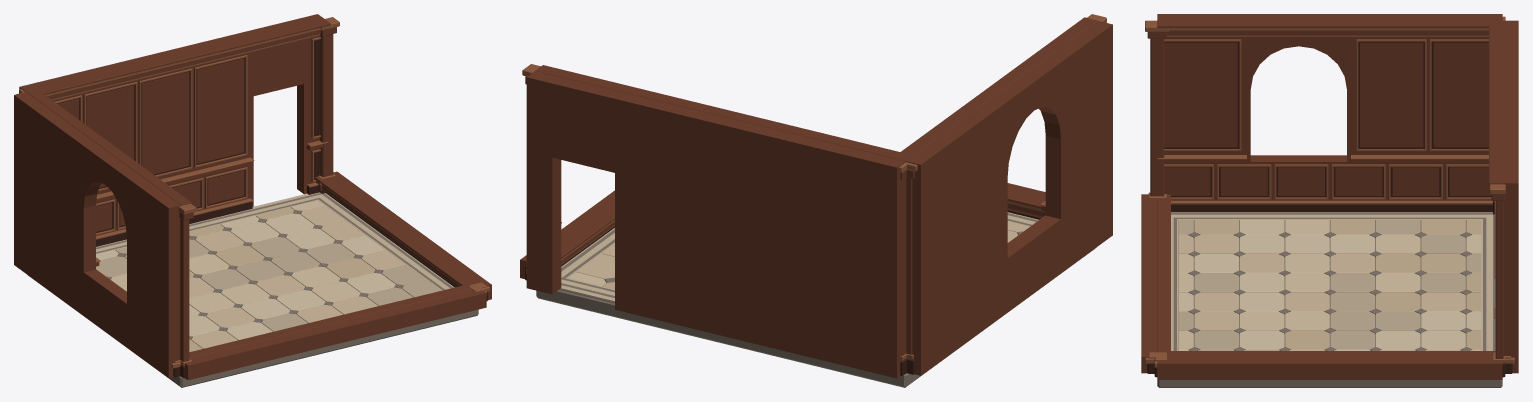
Rendered from r14_architecture.glb.
3 renders of one model, left to right at view 1: azimuth 30°, elevation 25°; view 2: azimuth 150°, elevation 25°; view 3: azimuth 270°, elevation 25°, orthographic. The views are drawn at different scales.
Visible parts, largest first — view 1: R14_left_Wall_Solid_00, R14_Floor, R14_rear_Wall_Solid_00, R14_front_Cutedge_Solid_00, R14_rear_Wall_UpperPanel_00_0_3_Field, R14_rear_Wall_UpperPanel_00_0_2_Field, R14_rear_Wall_UpperPanel_00_0_1_Field, R14_rear_Wall_Cornice_00_3_0, R14_Floor_Foundation, Pilaster_Shaft_001, R14_front_Cutedge_Cornice_00_3_0, R14_right_Cutedge_Solid_00 (+17 smaller); view 2: R14_rear_Wall_Solid_00, R14_left_Wall_Solid_00, R14_Floor_Foundation, R14_Floor, R14_rear_Wall_Cornice_00_3_0, R14_left_Wall_Cornice_00_3_0, Pilaster_Shaft, R14_right_Cutedge_Solid_00, Pilaster_Shaft_003, R14_right_Cutedge_Cornice_00_3_0; view 3: R14_Floor, R14_left_Wall_Solid_00, R14_right_Cutedge_Solid_00, R14_left_Wall_UpperPanel_00_0_0_Field, R14_left_Wall_UpperPanel_00_1_0_Field, R14_left_Wall_UpperPanel_00_1_1_Field, R14_rear_Wall_Solid_00, R14_left_Wall_Skirting_00_0, R14_Floor_Foundation, R14_left_Wall_Cornice_00_3_0, R14_front_Cutedge_Solid_00, Pilaster_Shaft_002 (+28 smaller).
Boxes of the visible parts, x1=… form: R14_left_Wall_Solid_00: x1=14, y1=92, x2=180, y2=377; R14_Floor: x1=96, y1=192, x2=454, y2=351; R14_rear_Wall_Solid_00: x1=19, y1=14, x2=323, y2=235; R14_front_Cutedge_Solid_00: x1=185, y1=289, x2=486, y2=380; R14_rear_Wall_UpperPanel_00_0_3_Field: x1=197, y1=58, x2=244, y2=163; R14_rear_Wall_UpperPanel_00_0_2_Field: x1=142, y1=72, x2=189, y2=174; R14_rear_Wall_UpperPanel_00_0_1_Field: x1=87, y1=85, x2=133, y2=187; R14_rear_Wall_Cornice_00_3_0: x1=37, y1=19, x2=330, y2=94; R14_Floor_Foundation: x1=28, y1=275, x2=478, y2=387; Pilaster_Shaft_001: x1=319, y1=34, x2=333, y2=176; R14_front_Cutedge_Cornice_00_3_0: x1=189, y1=283, x2=473, y2=358; R14_right_Cutedge_Solid_00: x1=330, y1=171, x2=491, y2=300; R14_rear_Wall_Solid_00: x1=526, y1=71, x2=905, y2=378; R14_left_Wall_Solid_00: x1=905, y1=21, x2=1112, y2=375; R14_Floor_Foundation: x1=536, y1=247, x2=1096, y2=387; R14_Floor: x1=560, y1=212, x2=1038, y2=302; R14_rear_Wall_Cornice_00_3_0: x1=535, y1=65, x2=910, y2=160; R14_left_Wall_Cornice_00_3_0: x1=894, y1=17, x2=1097, y2=160; Pilaster_Shaft: x1=906, y1=177, x2=912, y2=354; R14_right_Cutedge_Solid_00: x1=520, y1=190, x2=614, y2=278; Pilaster_Shaft_003: x1=902, y1=177, x2=906, y2=355; R14_right_Cutedge_Cornice_00_3_0: x1=561, y1=205, x2=614, y2=258; R14_Floor: x1=1171, y1=212, x2=1495, y2=350; R14_left_Wall_Solid_00: x1=1157, y1=14, x2=1502, y2=200; R14_right_Cutedge_Solid_00: x1=1157, y1=357, x2=1502, y2=379; R14_left_Wall_UpperPanel_00_0_0_Field: x1=1164, y1=42, x2=1237, y2=147; R14_left_Wall_UpperPanel_00_1_0_Field: x1=1360, y1=42, x2=1423, y2=147; R14_left_Wall_UpperPanel_00_1_1_Field: x1=1433, y1=42, x2=1488, y2=147; R14_rear_Wall_Solid_00: x1=1502, y1=20, x2=1518, y2=373; R14_left_Wall_Skirting_00_0: x1=1171, y1=204, x2=1492, y2=212; R14_Floor_Foundation: x1=1157, y1=380, x2=1502, y2=387; R14_left_Wall_Cornice_00_3_0: x1=1157, y1=20, x2=1502, y2=27; R14_front_Cutedge_Solid_00: x1=1141, y1=194, x2=1156, y2=373; Pilaster_Shaft_002: x1=1150, y1=38, x2=1164, y2=196.
Size of the model in its own units: 7.36 by 4.01 by 6.66.
